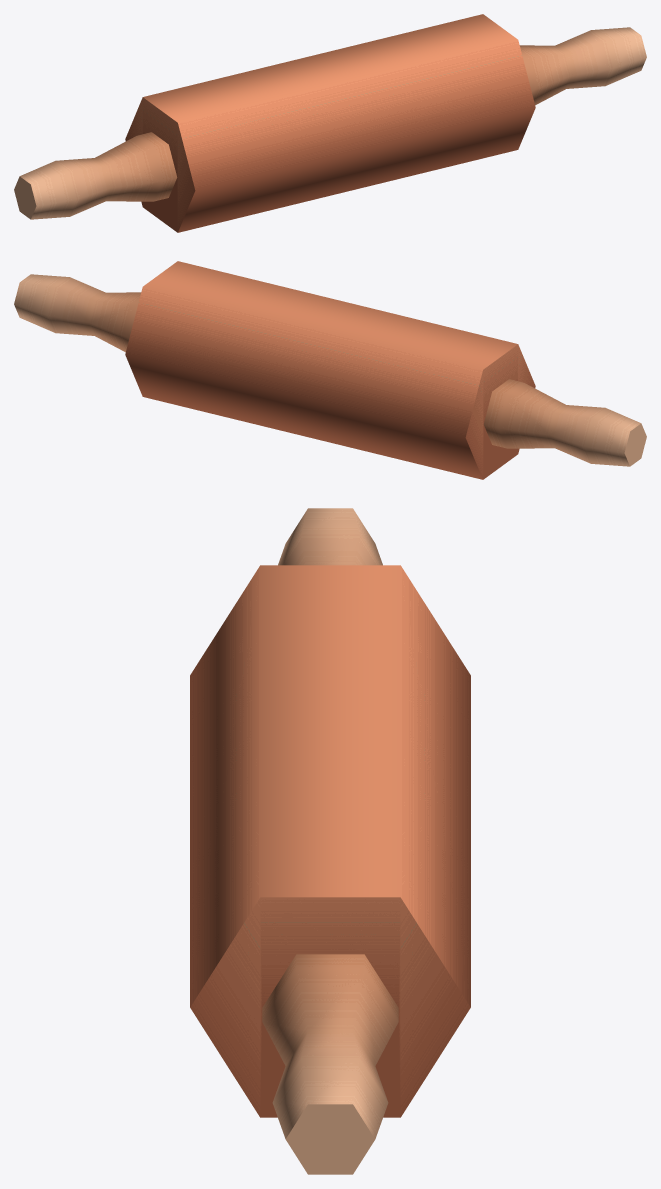
File: rollingPin.glb
The picture shows the model from 3 angles, top to bottom: view 1: azimuth 30°, elevation 25°; view 2: azimuth 150°, elevation 25°; view 3: azimuth 270°, elevation 25°; orthographic projection. The views are drawn at different scales.
Visible parts, largest first — view 1: rollingPin; view 2: rollingPin; view 3: rollingPin.
Part boxes in pixels (bbox=[...]): rollingPin: bbox=[14, 14, 646, 232]; rollingPin: bbox=[14, 261, 646, 479]; rollingPin: bbox=[190, 508, 470, 1174].
Size of the model in its own units: 0.8137 by 0.1403 by 0.162.
1 material, 1 textured.
